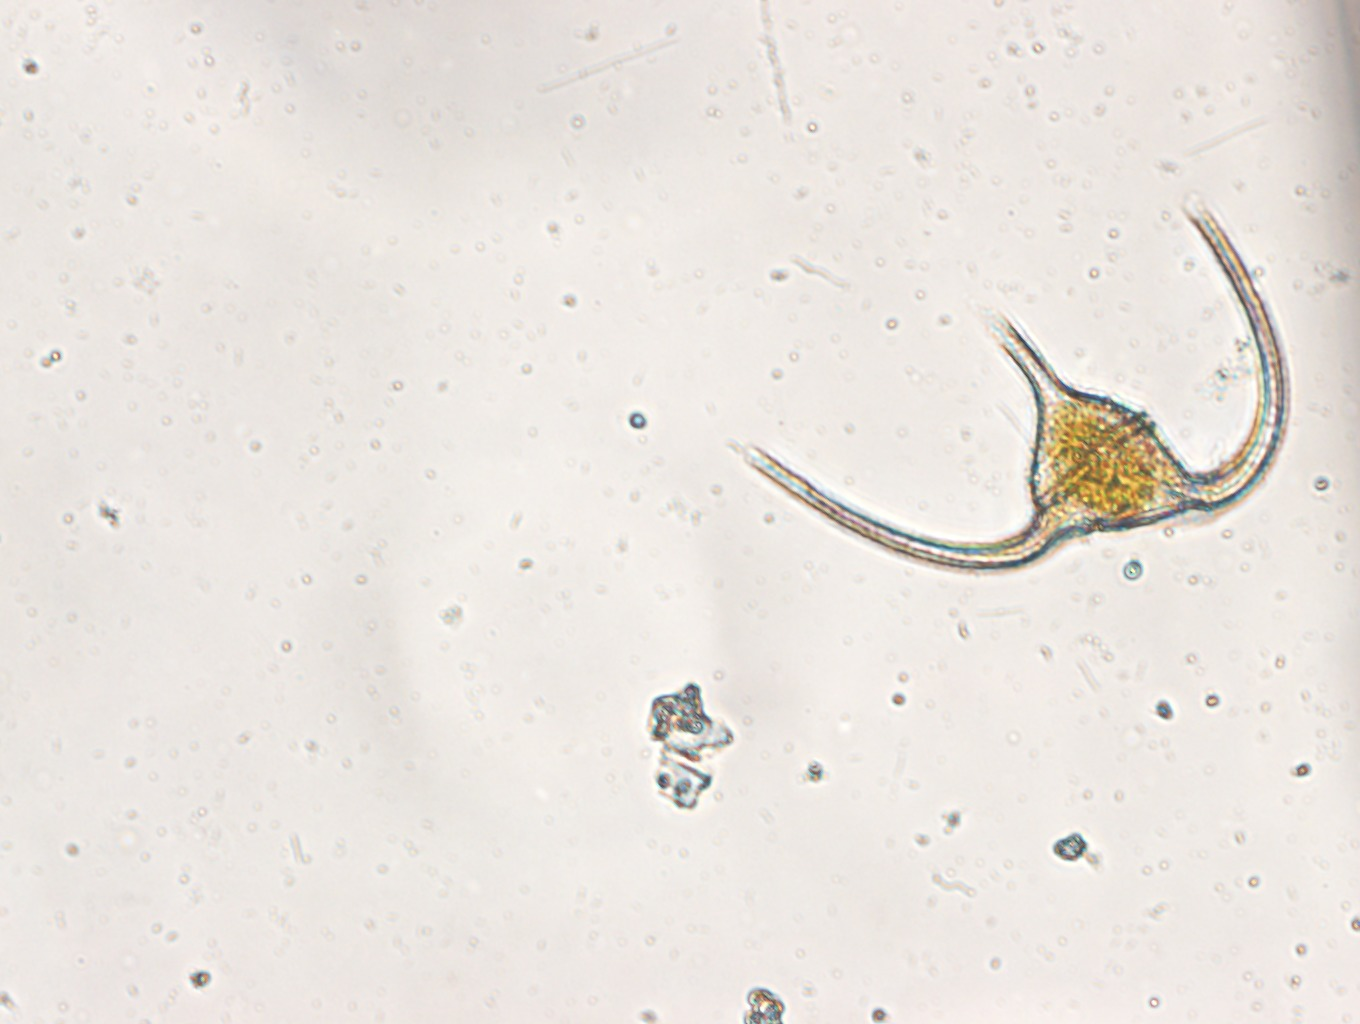ceratium trichoceros: (717, 184, 1318, 574)
